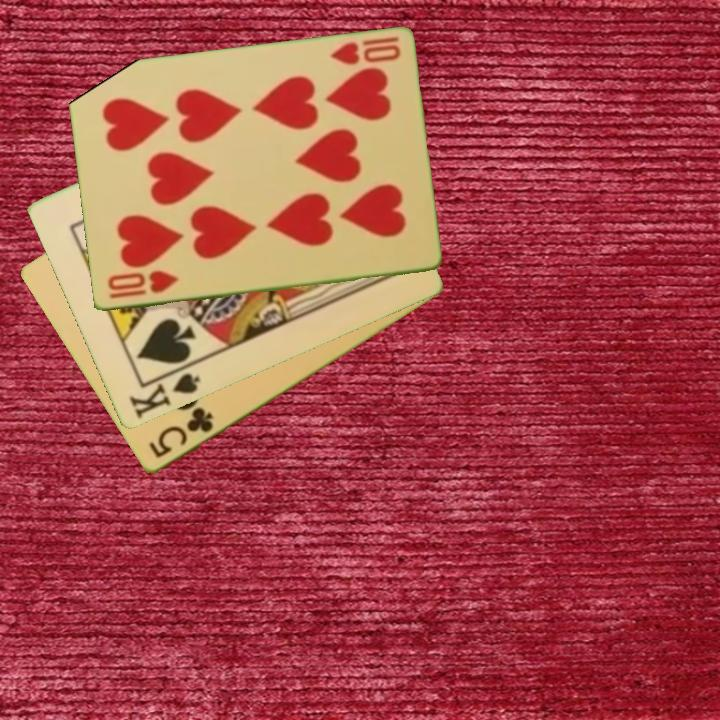10h: (326, 33, 403, 69), (104, 268, 181, 302)
5c: (145, 404, 216, 462)
Ks: (125, 370, 203, 422)
